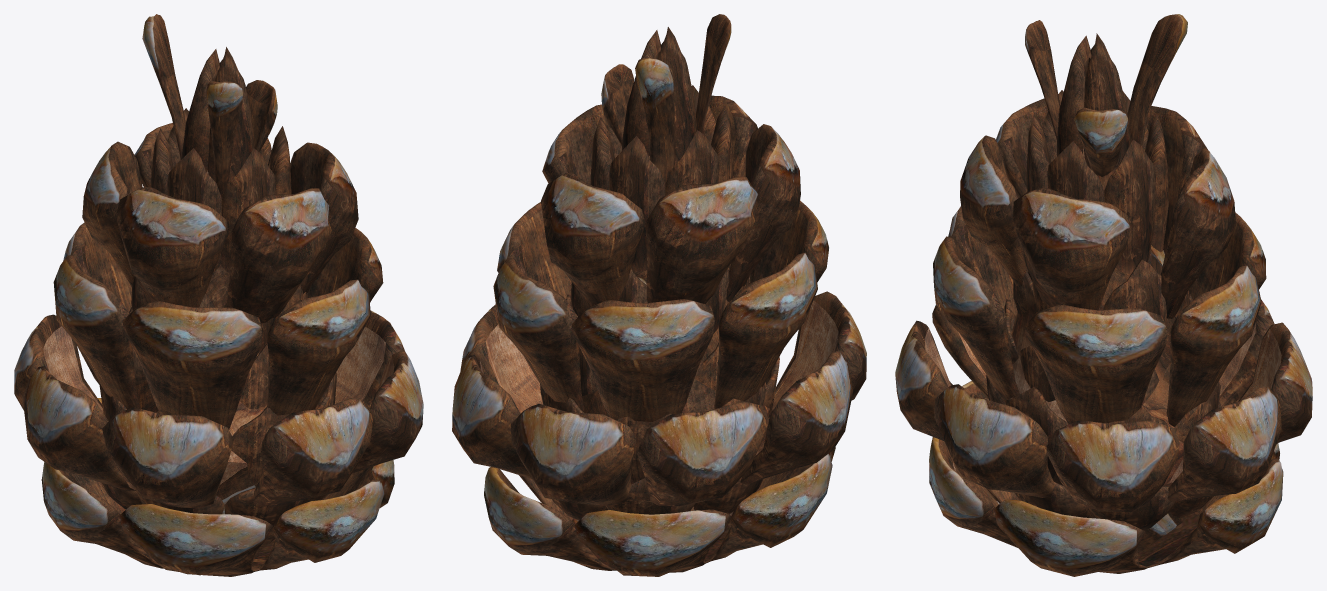
3 renders of one model, left to right at view 1: azimuth 30°, elevation 25°; view 2: azimuth 150°, elevation 25°; view 3: azimuth 270°, elevation 25°, orthographic.
Visible parts, largest first — view 1: PineCone_0; view 2: PineCone_0; view 3: PineCone_0.
Part boxes in pixels (box(x1,y1,x2,y2)): PineCone_0: box(14, 14, 423, 576); PineCone_0: box(452, 14, 866, 576); PineCone_0: box(895, 14, 1312, 576).
Size of the model in its own units: 0.6773 by 0.9508 by 0.6818.
1 material, 1 textured.
